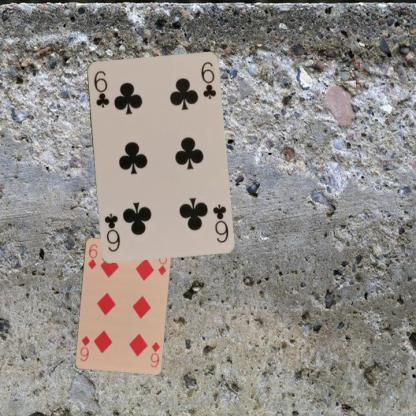6c: (210, 201, 229, 244), (91, 68, 110, 109)
6d: (148, 339, 161, 369), (85, 241, 98, 270)
